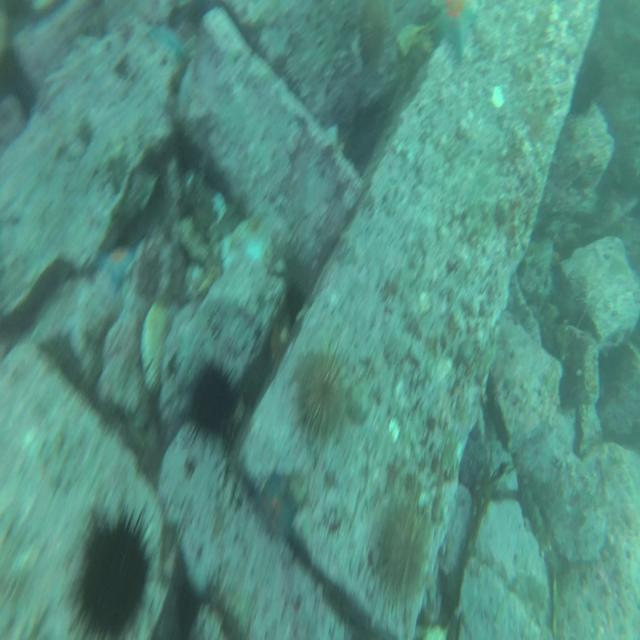echinus: (71, 511, 155, 640), (375, 499, 434, 599), (298, 353, 349, 439), (188, 360, 236, 442)
scallop: (140, 299, 175, 390)
starfish: (434, 0, 480, 45), (96, 241, 136, 287), (151, 17, 188, 55)
